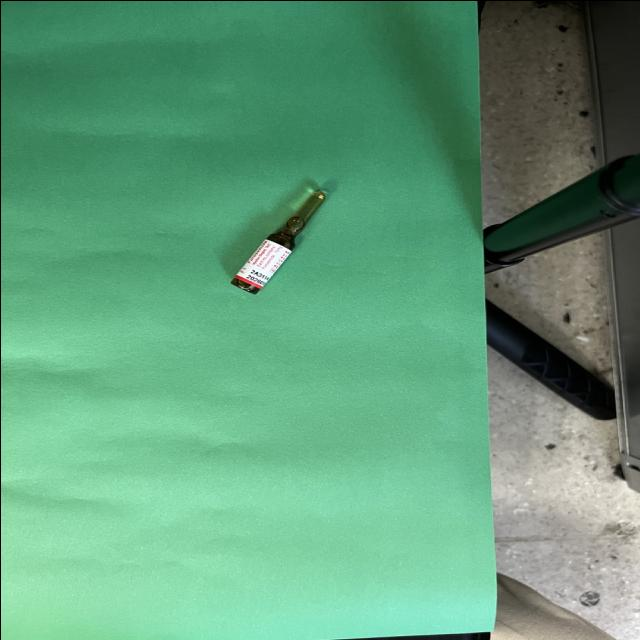Ampoules: (231, 189, 325, 294)
